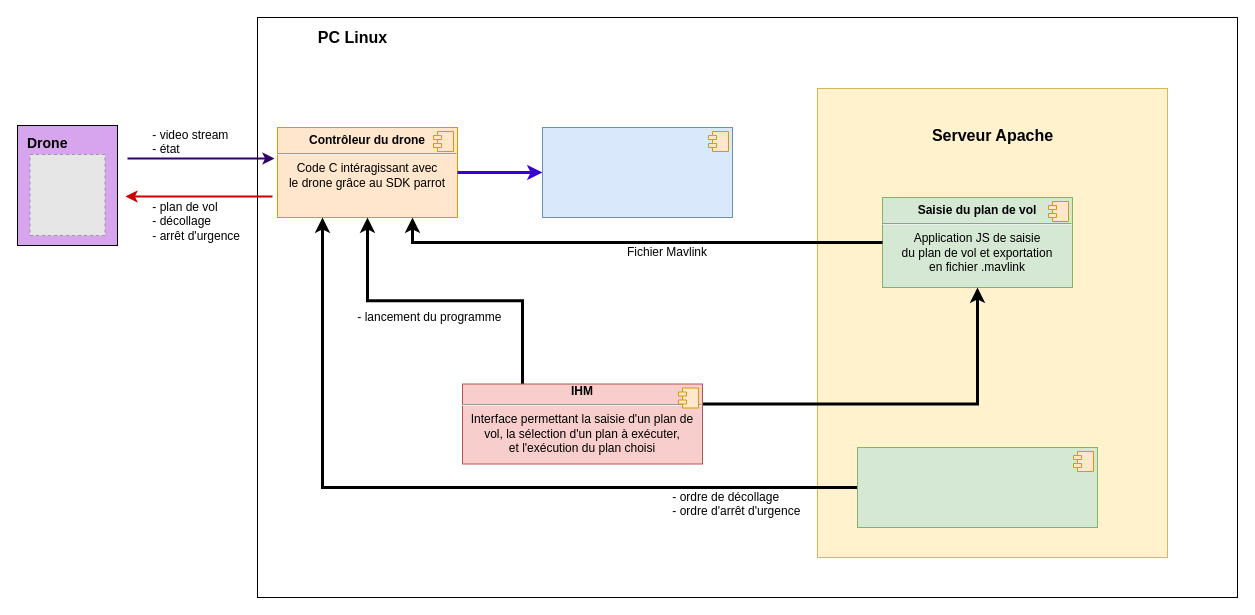
Image size: 1255x615. Some labels were removed from this diagram. Grey dashed boxes stand in for pictures. The shapes that lost their labels are listed below. From the top down, each one's centre as x and y in pixels, then its label:
At [637,172]: "Traitement vidéo Traitement du flux avec FFMPEG et envoi du flux en RTP".
At [977,487]: "Commandes distantes Requête de décollage et d'atterissage d'urgence du drone".
